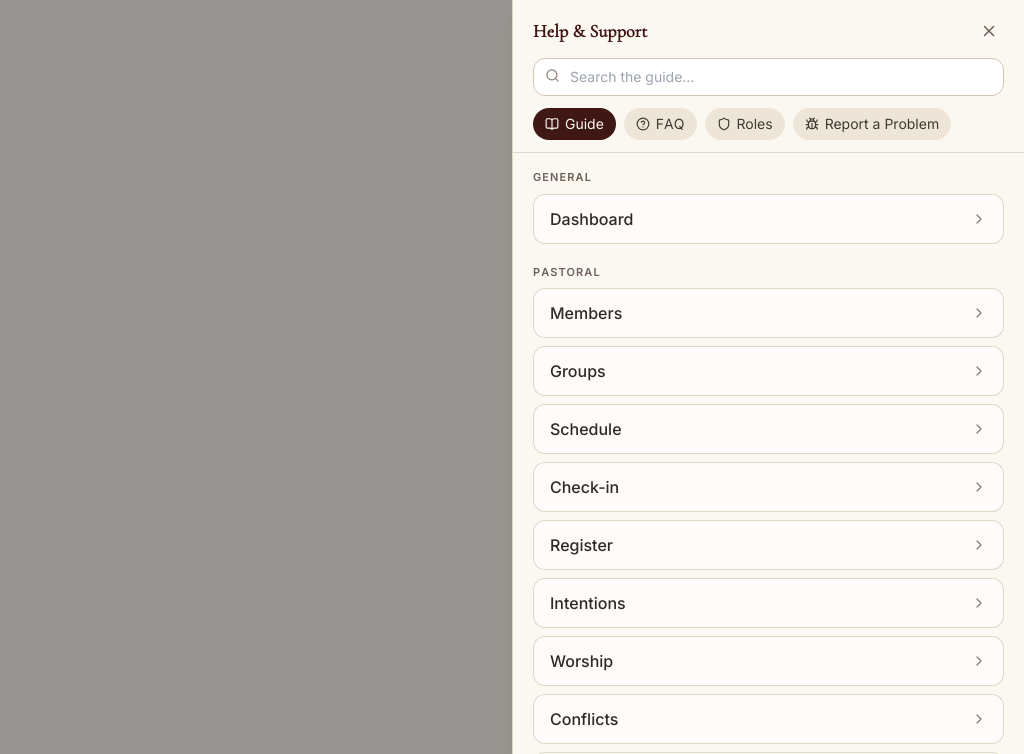
Test: earlier reports › a refused read is not a parish with no reports
Click the button "Report a Problem" at (872, 124), box [793,108,951,140]
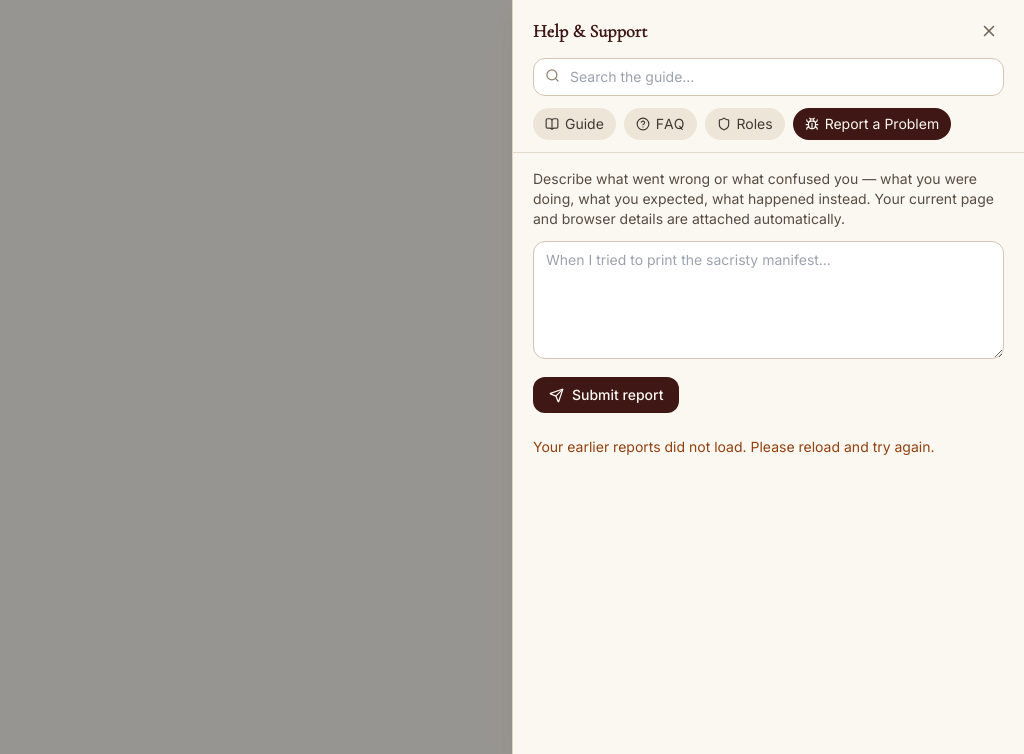
Check: the message reads "Your earlier reports did not load. Please reload and try again.", box [533,438,934,455]
